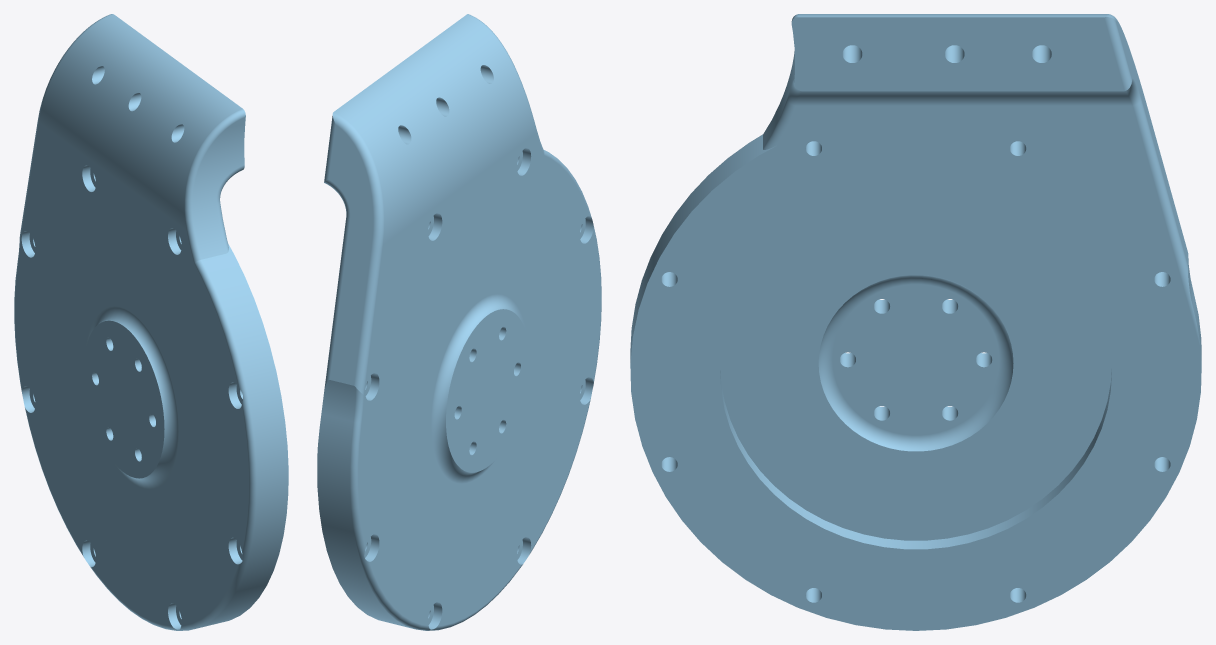
The picture shows the model from 3 angles, left to right: view 1: azimuth 30°, elevation 25°; view 2: azimuth 150°, elevation 25°; view 3: azimuth 270°, elevation 25°; orthographic projection. The views are drawn at different scales.
Parts seen in each view (by area): view 1: mesh3881, mesh3877, mesh3868, mesh3897, mesh3847, mesh3864, mesh3882, mesh3861, mesh3872; view 2: mesh3881, mesh3877, mesh3897, mesh3873, mesh3868, mesh3882, mesh3872, mesh3847, mesh3870, mesh3869; view 3: mesh3892, mesh3894, mesh3876, mesh3896, mesh3895, mesh3867, mesh3893, mesh3868, mesh3869, mesh3877, mesh3873, mesh3874.
Boxes of the visible parts, <box> form: mesh3881: <box>15,123,248,626</box>; mesh3877: <box>39,14,242,230</box>; mesh3868: <box>199,244,288,627</box>; mesh3897: <box>83,320,164,478</box>; mesh3847: <box>14,260,256,630</box>; mesh3864: <box>192,123,245,259</box>; mesh3882: <box>86,306,178,489</box>; mesh3861: <box>184,121,227,230</box>; mesh3872: <box>19,14,112,240</box>; mesh3881: <box>358,133,600,625</box>; mesh3877: <box>333,14,536,244</box>; mesh3897: <box>446,309,529,472</box>; mesh3873: <box>329,125,373,385</box>; mesh3868: <box>317,414,413,628</box>; mesh3882: <box>431,294,526,483</box>; mesh3872: <box>332,112,384,395</box>; mesh3847: <box>350,150,601,630</box>; mesh3870: <box>321,380,355,421</box>; mesh3869: <box>323,218,349,394</box>; mesh3892: <box>630,106,1201,630</box>; mesh3894: <box>720,194,1111,540</box>; mesh3876: <box>791,17,1124,91</box>; mesh3896: <box>832,284,999,435</box>; mesh3895: <box>818,275,1013,451</box>; mesh3867: <box>795,91,1132,105</box>; mesh3893: <box>720,369,1111,549</box>; mesh3868: <box>630,135,1201,362</box>; mesh3869: <box>1133,100,1200,348</box>; mesh3877: <box>798,14,1106,17</box>; mesh3873: <box>1116,21,1188,266</box>; mesh3874: <box>1104,17,1131,90</box>.
Bounding box in the file's own units: 0.0176 × 0.1273 × 0.105.
